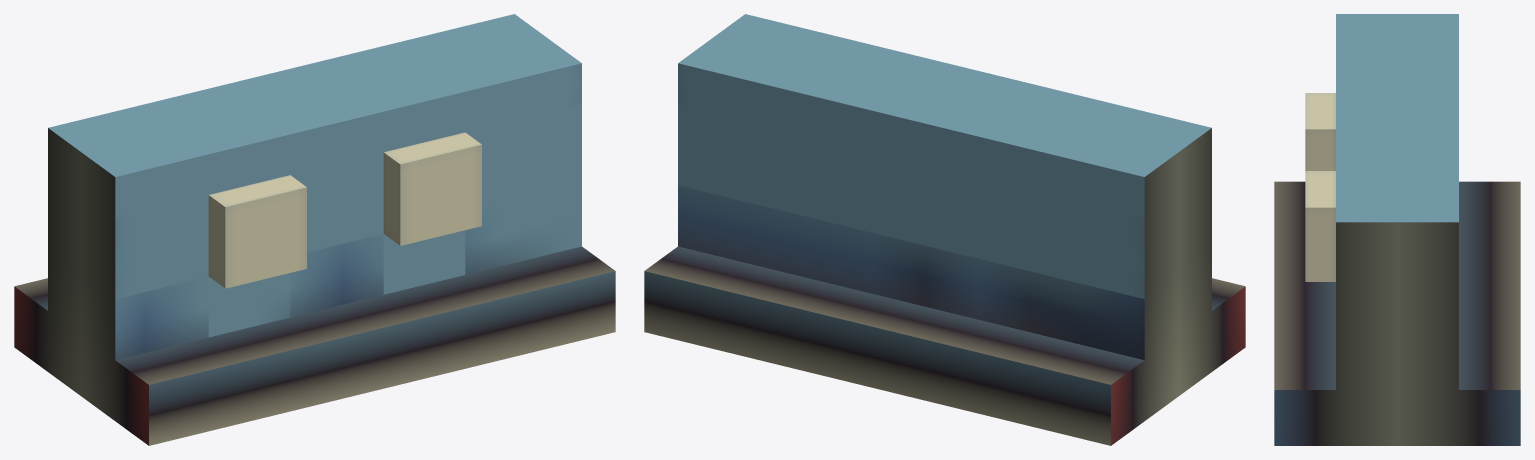
File: casa1_cantonada_centre_baix.fbx
3 renders of one model, left to right at view 1: azimuth 30°, elevation 25°; view 2: azimuth 150°, elevation 25°; view 3: azimuth 270°, elevation 25°, orthographic. The views are drawn at different scales.
Parts seen in each view (by area): view 1: Wall1.016; view 2: Wall1.016; view 3: Wall1.016.
Boxes of the visible parts, x1,y1,x2,y2 form: Wall1.016: (14, 14, 615, 445); Wall1.016: (644, 14, 1245, 445); Wall1.016: (1274, 14, 1520, 445).
Bounding box in the file's own units: 200 × 100 × 100.
